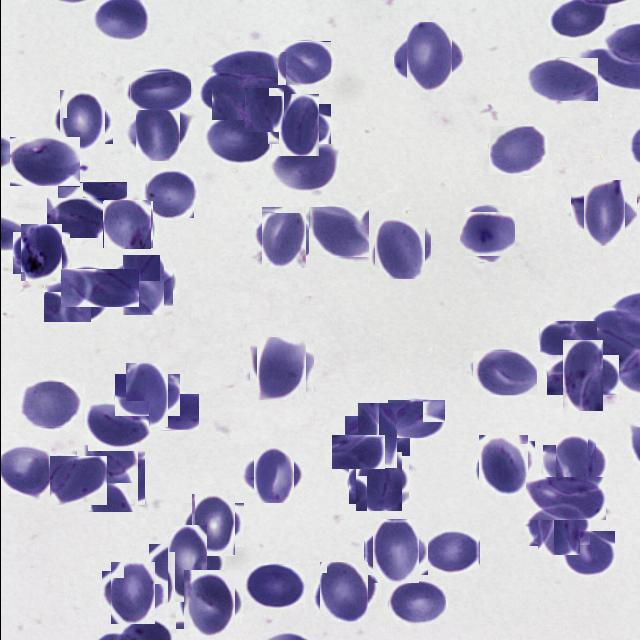red blood cell: (80, 448, 140, 508), (9, 138, 79, 188), (178, 574, 238, 632), (525, 477, 605, 520), (157, 535, 215, 593), (400, 28, 458, 86), (269, 143, 338, 191), (252, 341, 310, 396), (371, 220, 427, 276), (367, 524, 423, 580), (554, 347, 610, 403), (525, 58, 597, 101), (316, 564, 371, 620), (87, 401, 148, 451), (308, 207, 368, 257), (54, 94, 109, 148), (476, 438, 530, 493), (60, 269, 138, 307), (488, 125, 547, 175), (19, 382, 84, 427), (471, 350, 536, 395), (106, 566, 160, 620), (576, 186, 630, 240), (548, 438, 602, 492), (120, 368, 174, 422), (204, 117, 270, 161), (43, 276, 106, 322), (186, 498, 239, 552), (237, 72, 290, 126), (352, 454, 404, 508), (49, 456, 106, 505), (242, 565, 304, 610), (257, 211, 309, 264), (131, 106, 183, 158), (272, 98, 324, 150), (350, 410, 402, 462), (210, 52, 285, 88), (532, 500, 584, 550), (116, 260, 168, 310), (560, 532, 614, 580), (46, 198, 110, 238), (388, 582, 445, 626), (461, 209, 511, 259), (57, 182, 126, 218), (128, 70, 190, 110), (423, 530, 479, 574), (16, 228, 65, 278), (102, 200, 152, 248), (277, 41, 330, 85), (249, 451, 297, 499), (386, 399, 444, 438), (146, 170, 193, 218), (539, 321, 596, 359), (205, 71, 249, 115), (331, 435, 384, 469), (150, 394, 198, 430)
